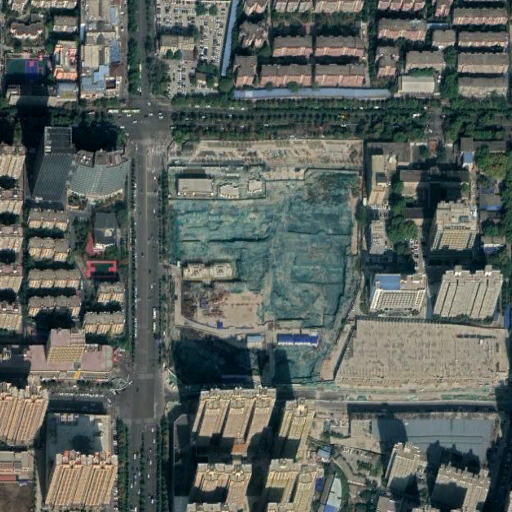cw: (162, 140, 356, 329)
